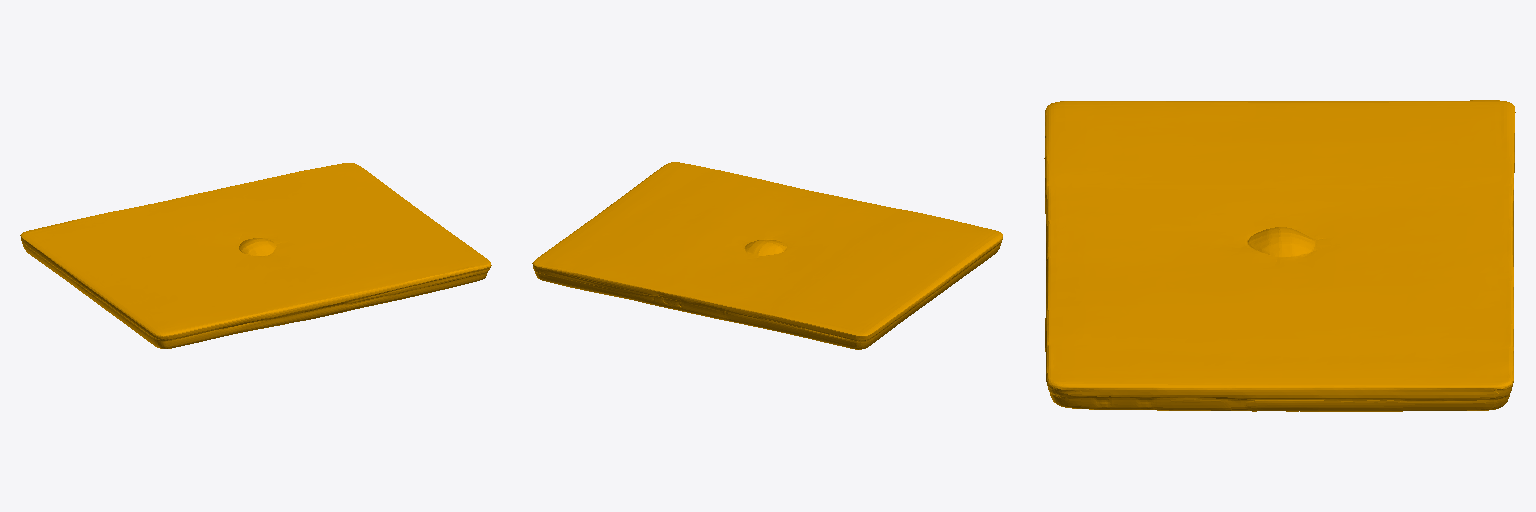
robot.urdf — sample:
<?xml version="1.0" ?>
<robot name="sample">
   <link name="sample">
      <visual>
         <origin xyz="0 0 0" rpy="1.5708 0.0 0.0"/>
         <geometry>
            <mesh filename="mesh/sample.obj" scale="1.0 1.0 1.0"/>
         </geometry>
      </visual>
      <collision>
         <origin xyz="0 0 0" rpy="1.5708 0.0 0.0"/>
         <geometry>
            <mesh filename="mesh/sample_collision.obj" scale="1.0 1.0 1.0"/>
         </geometry>
         <gazebo>
            <mu1>0.70</mu1>
            <mu2>0.55</mu2>
         </gazebo>
      </collision>
      <inertial>
         <mass value="1.5000"/>
         <origin xyz="0 0 0"/>
         <inertia ixx="1.0" ixy="0.0" ixz="0.0" iyy="1.0" iyz="0.0" izz="1.0"/>
      </inertial>
      <extra_info>
         <scale>0.261825</scale>
         <version>v0.1.7</version>
         <category>laptop</category>
         <description>slim silver laptop with closed lid and visible ports</description>
         <min_height>0.018</min_height>
         <max_height>0.025</max_height>
         <real_height>0.0215</real_height>
         <min_mass>1.2</min_mass>
         <max_mass>1.8</max_mass>
         <generate_time>20260401101138</generate_time>
         <gs_model>mesh/sample_gs.ply</gs_model>
      </extra_info>
   </link>
   <custom_data>
      <quality>
         <MeshGeoChecker>YES</MeshGeoChecker>
         <ImageSegChecker>NO, object is not properly isolated; background artifacts and incomplete edges present.</ImageSegChecker>
         <ImageAestheticChecker>4.724637508392334</ImageAestheticChecker>
         <overall>NO</overall>
      </quality>
   </custom_data>
</robot>

--- Render facts (derived) ---
3 views of the same robot in one strip: view 1: azimuth 30°, elevation 25°; view 2: azimuth 150°, elevation 25°; view 3: azimuth 270°, elevation 25° (orthographic).
Robot: sample — 1 links, 0 joints (none); root link sample; default pose: all joints at 0.
Links seen in each view (by area): view 1: sample; view 2: sample; view 3: sample.
Boxes of the visible links, x1,y1,x2,y2 form: sample: [20, 163, 491, 348]; sample: [532, 162, 1002, 349]; sample: [1044, 100, 1515, 411].
Size in the robot's own frame: 0.2618 by 0.1916 by 0.0215 metres.
Meshes: 1 distinct files referenced, 1 mesh visuals loaded (1 OBJ).
